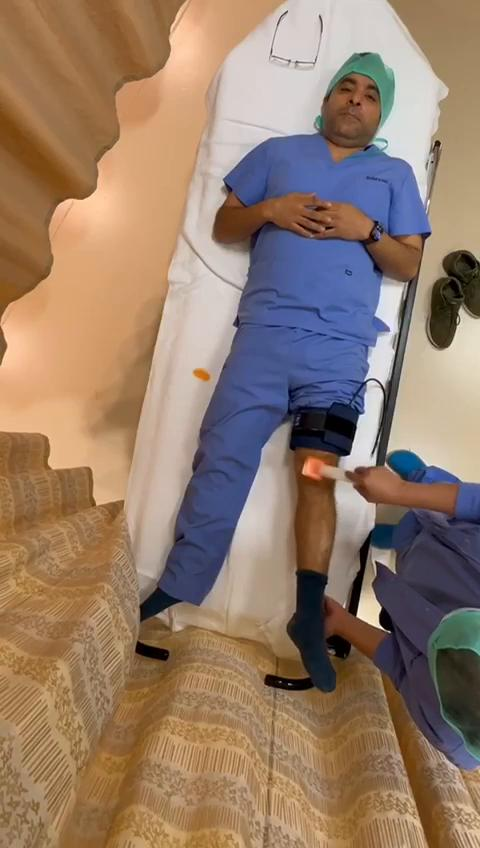bed: (126, 0, 446, 692)
patient: (142, 53, 431, 692)
prepstick: (301, 455, 351, 481)
tourniquet: (290, 402, 359, 455)
